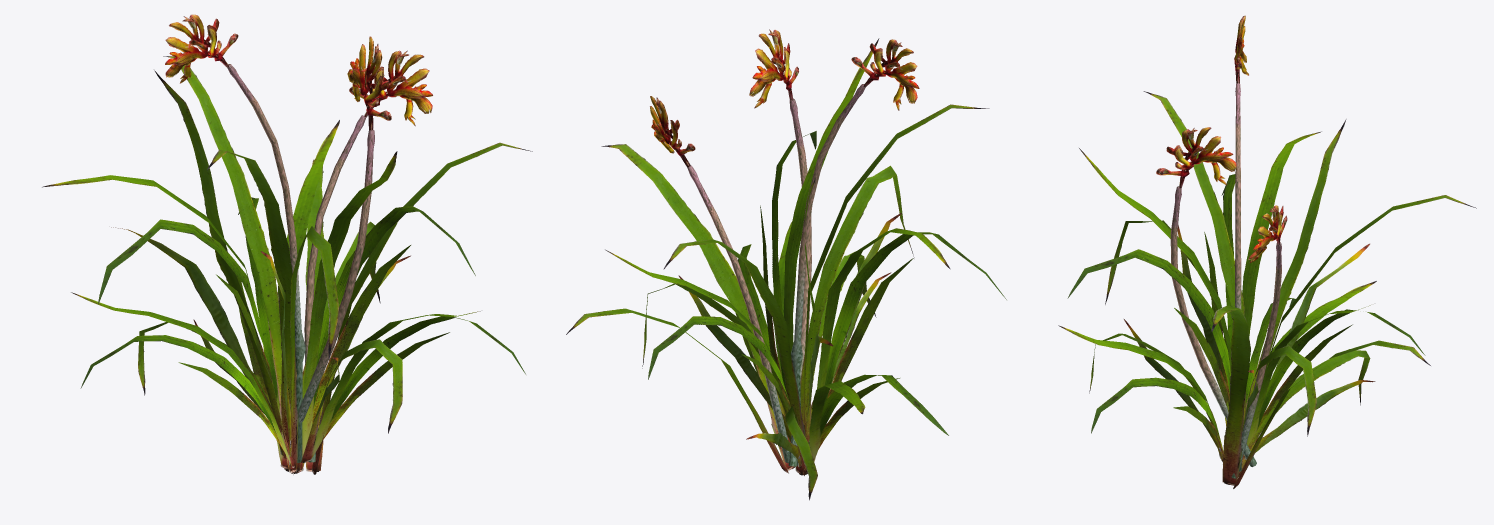
File: KangarooPawYellow.fbx
3 views of the same model, side by side, from view 1: azimuth 30°, elevation 25°; view 2: azimuth 150°, elevation 25°; view 3: azimuth 270°, elevation 25° (orthographic). The views are drawn at different scales.
Parts seen in each view (by area): view 1: YellowKangarooPaw_Leaves_LOD0, YellowKangarooPaw_Stem_LOD0; view 2: YellowKangarooPaw_Leaves_LOD0, YellowKangarooPaw_Stem_LOD0; view 3: YellowKangarooPaw_Leaves_LOD0, YellowKangarooPaw_Stem_LOD0.
Boxes of the visible parts, x1,y1,x2,y2 form: YellowKangarooPaw_Leaves_LOD0: (42, 14, 532, 474); YellowKangarooPaw_Stem_LOD0: (227, 64, 374, 462); YellowKangarooPaw_Leaves_LOD0: (566, 29, 1006, 500); YellowKangarooPaw_Stem_LOD0: (687, 84, 865, 466); YellowKangarooPaw_Leaves_LOD0: (1058, 15, 1476, 488); YellowKangarooPaw_Stem_LOD0: (1170, 83, 1281, 478).
Size of what is drawn, in the model's own units: 66.74 by 73.27 by 64.57.
